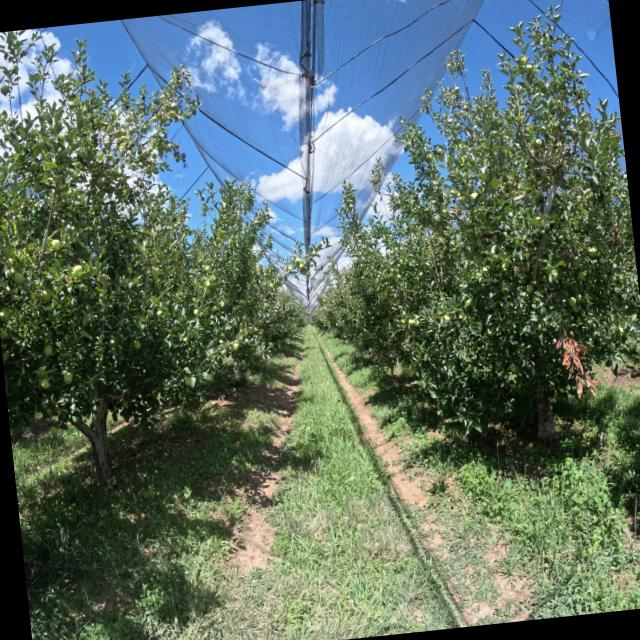-FireBlight-: (556, 334, 598, 401)
